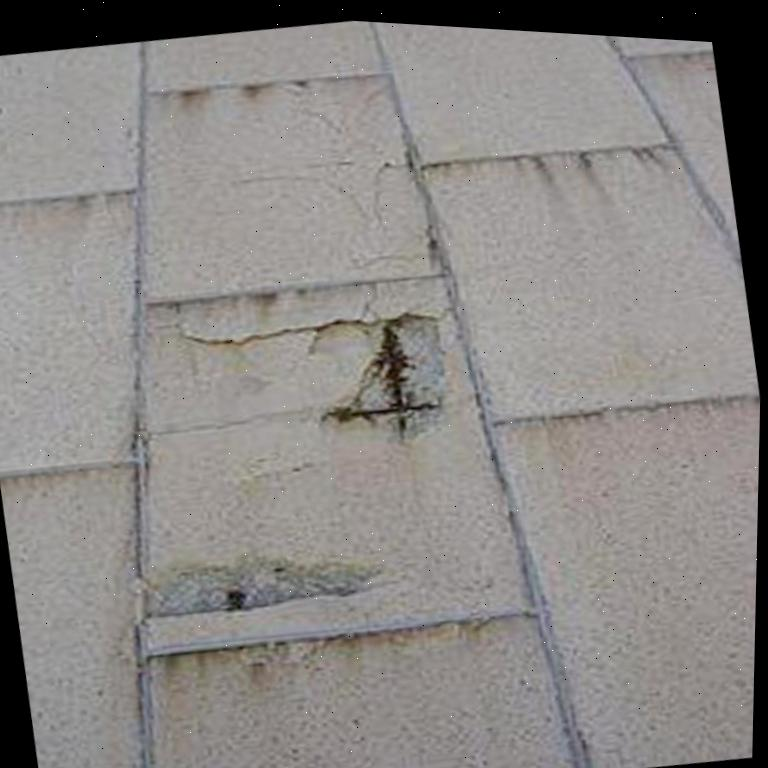exposed_rebar: (331, 322, 433, 422)
spalling: (321, 314, 442, 441), (154, 565, 371, 616)
